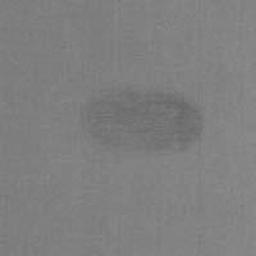Oil spot: (74, 83, 207, 159)
